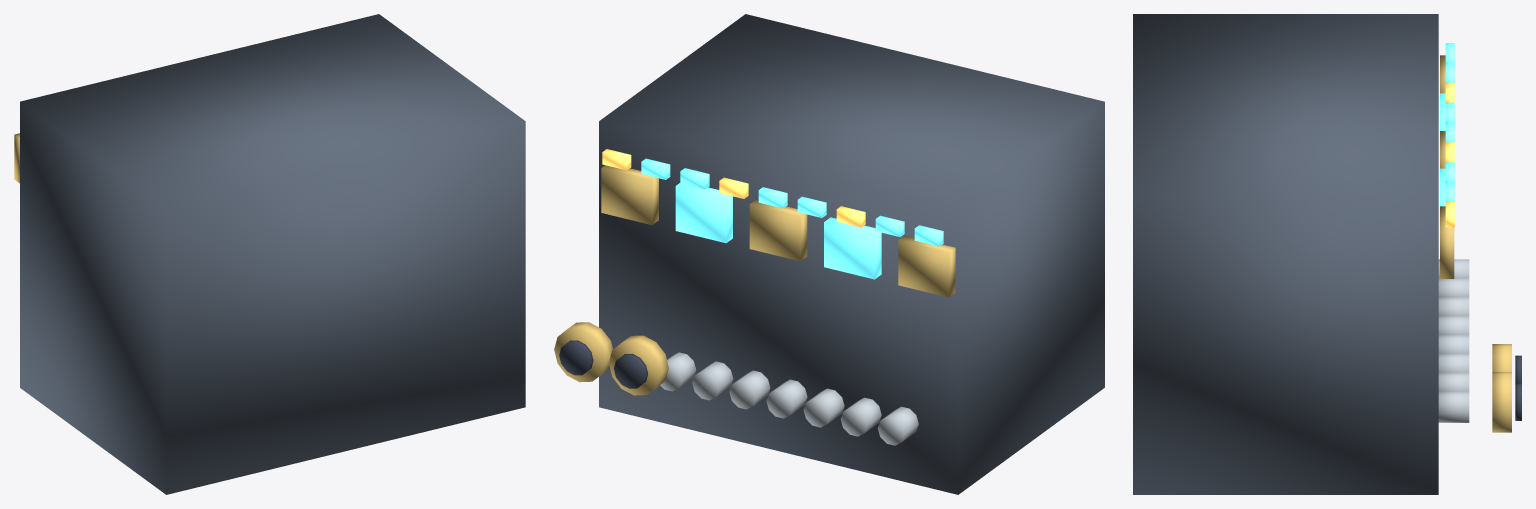
File: L86_36_FlexiblePayloadModalSensor_Fitted.fbx
3 renders of one model, left to right at view 1: azimuth 30°, elevation 25°; view 2: azimuth 150°, elevation 25°; view 3: azimuth 270°, elevation 25°, orthographic. The views are drawn at different scales.
Parts seen in each view (by area): view 1: L86_FlexiblePayloadModalSensor_Static__tint1F2633; view 2: L86_FlexiblePayloadModalSensor_Static__tint1F2633, L86_FlexiblePayloadModalSensor_ANIM_FLEX_MODAL_RESPONSE__tin (×3), L86_FlexiblePayloadModalSensor_Static__tintA1B2C2, L86_FlexiblePayloadModalSensor_Static__tintF2B038, L86_FlexiblePayloadModalSensor_Static__tint0F141F; view 3: L86_FlexiblePayloadModalSensor_Static__tint1F2633, L86_FlexiblePayloadModalSensor_Static__tintA1B2C2, L86_FlexiblePayloadModalSensor_ANIM_FLEX_MODAL_RESPONSE__tin (×3), L86_FlexiblePayloadModalSensor_Static__tintF2B038, L86_FlexiblePayloadModalSensor_Static__tint0F141F.
Part boxes in pixels (bbox=[...]): L86_FlexiblePayloadModalSensor_Static__tint1F2633: bbox=[20, 14, 525, 494]; L86_FlexiblePayloadModalSensor_Static__tint1F2633: bbox=[599, 14, 1104, 494]; L86_FlexiblePayloadModalSensor_ANIM_FLEX_MODAL_RESPONSE__tin (×3): bbox=[601, 149, 955, 297]; L86_FlexiblePayloadModalSensor_Static__tintA1B2C2: bbox=[660, 352, 918, 445]; L86_FlexiblePayloadModalSensor_Static__tintF2B038: bbox=[554, 322, 668, 395]; L86_FlexiblePayloadModalSensor_Static__tint0F141F: bbox=[559, 340, 647, 388]; L86_FlexiblePayloadModalSensor_Static__tint1F2633: bbox=[1133, 14, 1438, 494]; L86_FlexiblePayloadModalSensor_Static__tintA1B2C2: bbox=[1438, 259, 1469, 422]; L86_FlexiblePayloadModalSensor_ANIM_FLEX_MODAL_RESPONSE__tin (×3): bbox=[1440, 43, 1454, 278]; L86_FlexiblePayloadModalSensor_Static__tintF2B038: bbox=[1492, 344, 1511, 432]; L86_FlexiblePayloadModalSensor_Static__tint0F141F: bbox=[1515, 355, 1521, 420].
Bounding box in the file's own units: 9.07 × 6.72 × 7.94.
